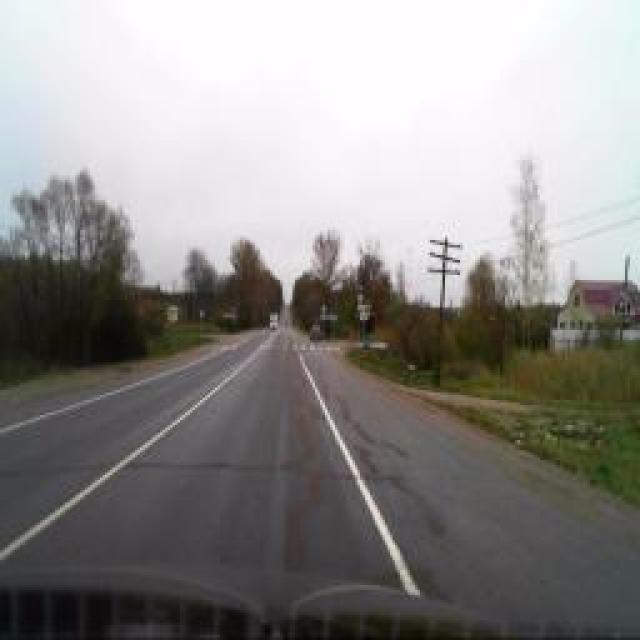sign: (168, 306, 178, 322)
